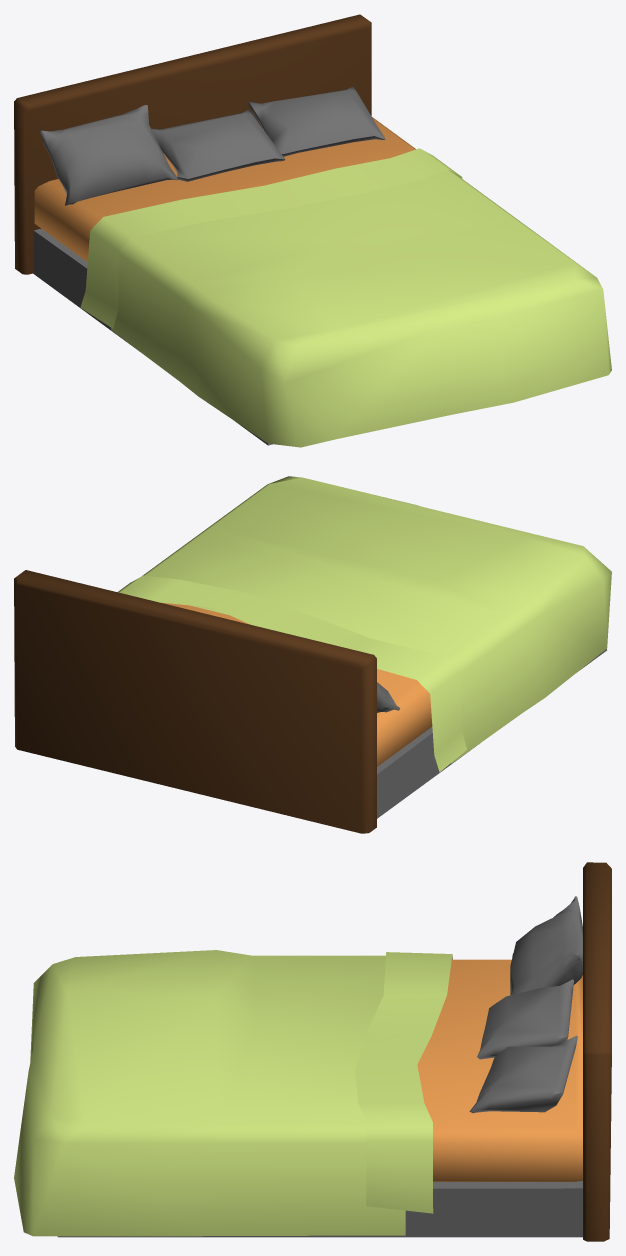
The picture shows the model from 3 angles, top to bottom: view 1: azimuth 30°, elevation 25°; view 2: azimuth 150°, elevation 25°; view 3: azimuth 270°, elevation 25°; orthographic projection. The views are drawn at different scales.
Parts seen in each view (by area): view 1: bed_015; view 2: bed_015; view 3: bed_015.
Boxes of the visible parts, box(x1,y1,x2,y2) form: bed_015: box(14, 14, 611, 447); bed_015: box(14, 476, 611, 833); bed_015: box(14, 862, 611, 1241).
Size of the model in its own units: 1.52 by 0.7013 by 1.99.
